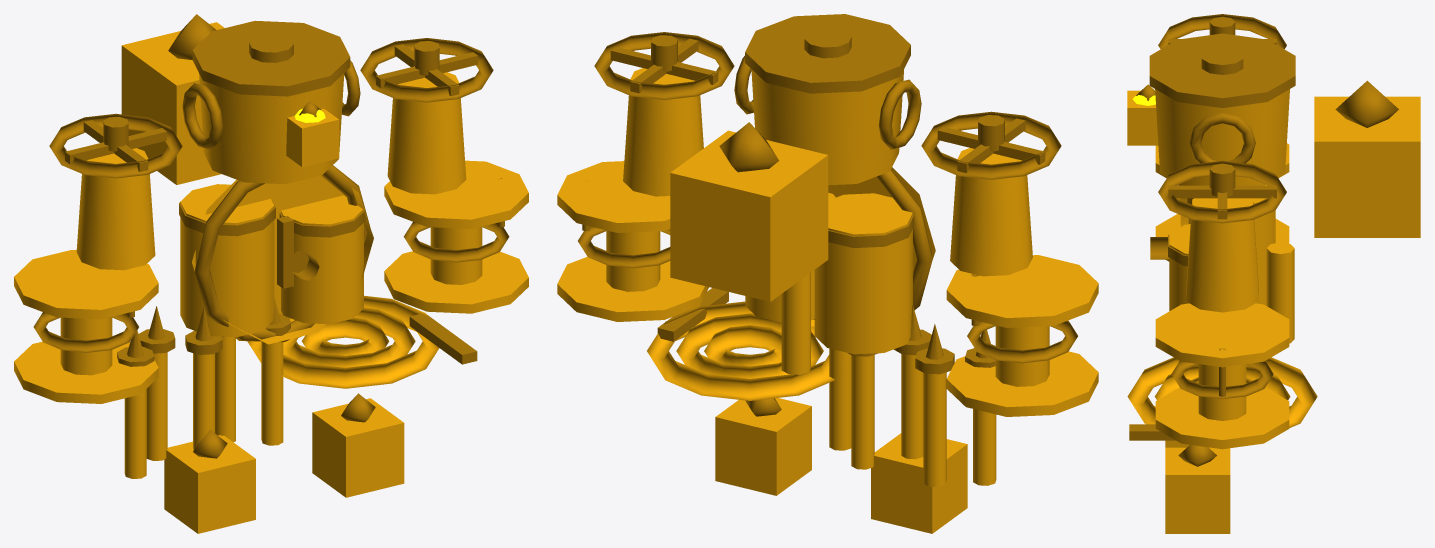
File: golem_085.glb
3 renders of one model, left to right at view 1: azimuth 30°, elevation 25°; view 2: azimuth 150°, elevation 25°; view 3: azimuth 270°, elevation 25°, orthographic. The views are drawn at different scales.
Visible parts, largest first — view 1: Body, Detail; view 2: Body, Detail; view 3: Body, Detail.
Part boxes in pixels (left/top/right/bottom): Body: left=14, top=22, right=528, bottom=533; Detail: left=33, top=14, right=509, bottom=458; Body: left=557, top=68, right=1098, bottom=533; Detail: left=578, top=14, right=1077, bottom=416; Body: left=1127, top=89, right=1420, bottom=533; Detail: left=1129, top=14, right=1398, bottom=466.
Size of the model in its own units: 1.42 by 1.21 by 0.7511.
